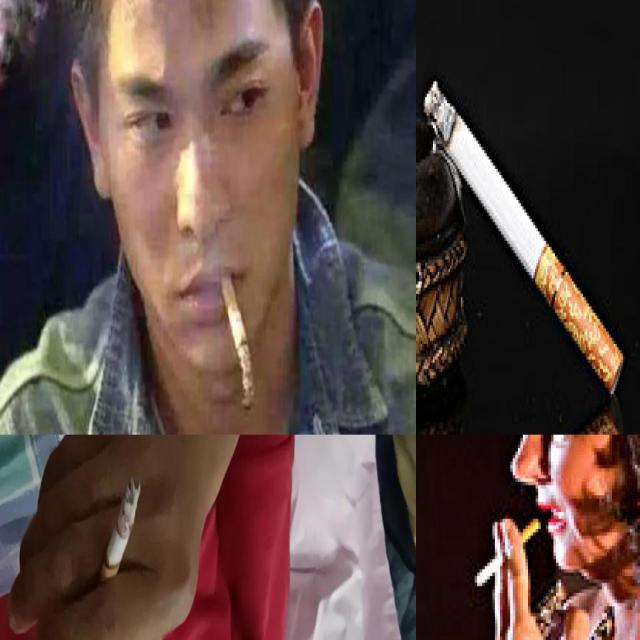smoking: (424, 76, 626, 394), (96, 481, 142, 598), (473, 518, 542, 588), (220, 268, 256, 399)
